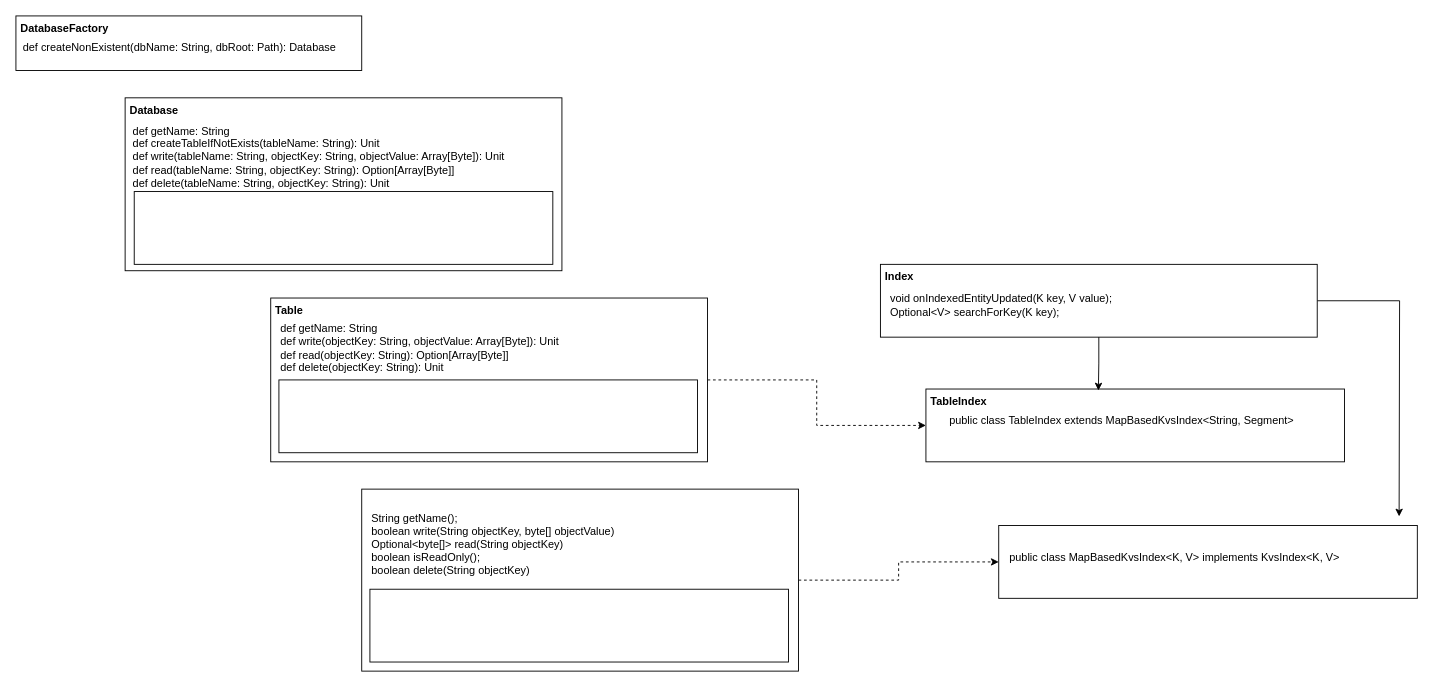
This 1433x687 diagram has some shape labels left out. Each missing label, with the box of its shape:
KvIndex: (998, 525, 1417, 598)
Segment: (361, 488, 799, 671)
